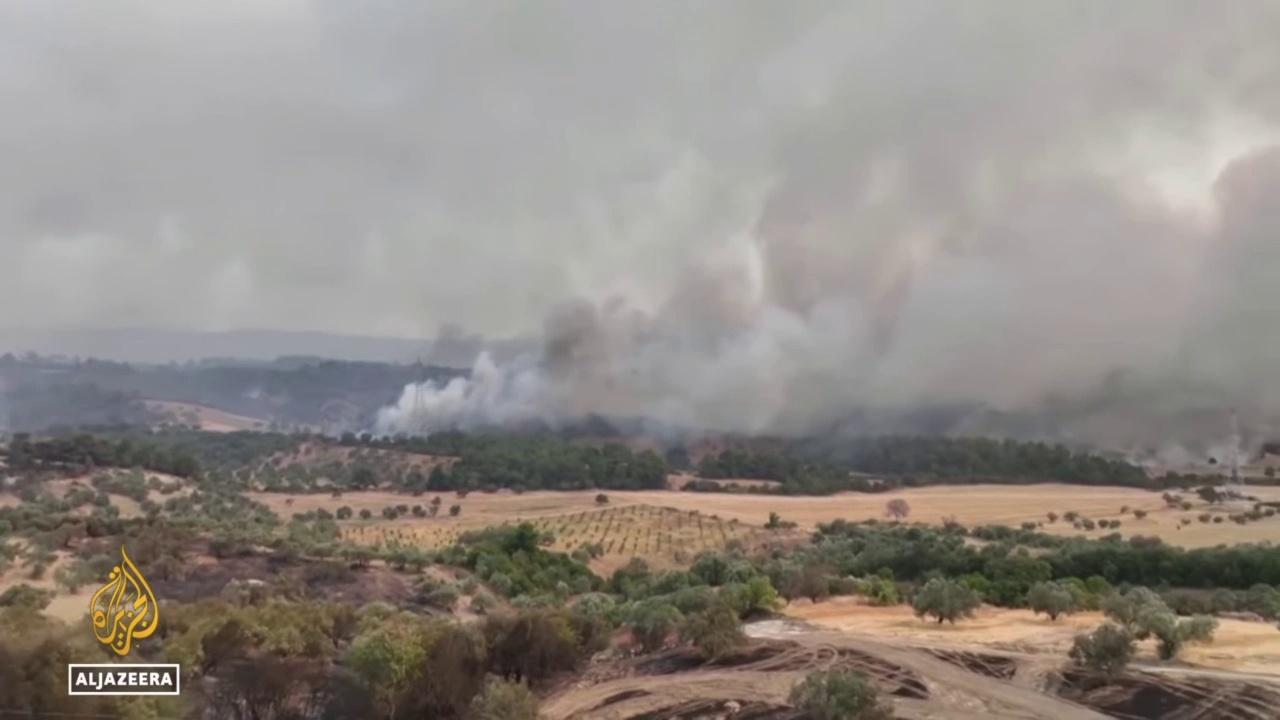smoke: (0, 0, 1280, 474)
